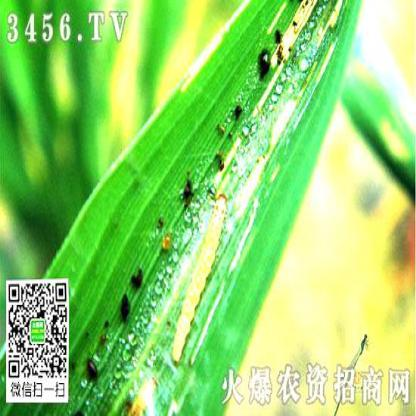leaf-folder: (161, 185, 233, 367)
